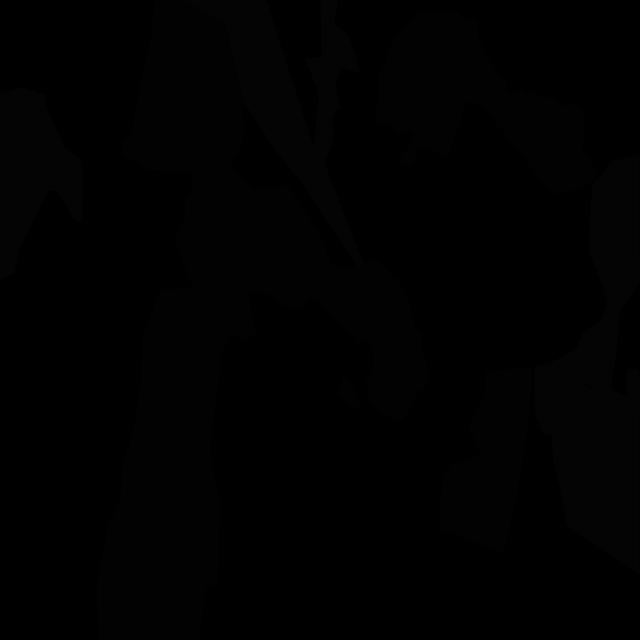cardboard: (96, 211, 240, 640), (376, 9, 597, 194), (185, 165, 331, 339), (122, 0, 244, 172), (314, 260, 428, 421), (440, 367, 533, 553), (338, 377, 360, 411)
soft_plastic: (184, 0, 364, 266), (534, 156, 640, 436), (552, 369, 640, 574), (0, 87, 82, 279)
